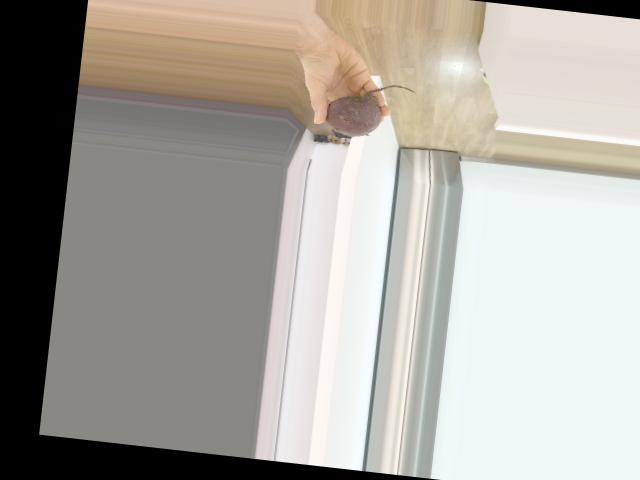beet: (324, 77, 416, 145)
